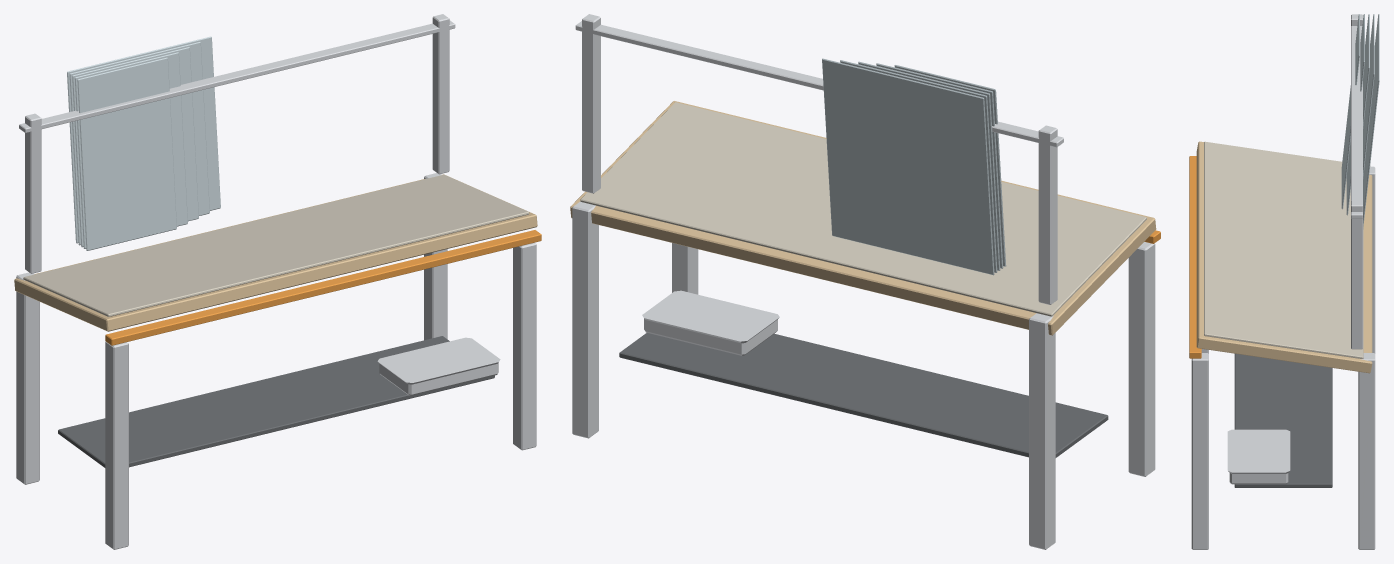
File: glass-and-glazing-cutting-bench.glb
3 views of the same model, side by side, from view 1: azimuth 30°, elevation 25°; view 2: azimuth 150°, elevation 25°; view 3: azimuth 270°, elevation 25° (orthographic). The views are drawn at different scales.
Parts seen in each view (by area): view 1: glass-and-glazing-cut-bench; view 2: glass-and-glazing-cut-bench; view 3: glass-and-glazing-cut-bench.
Boxes of the visible parts, x1=… form: glass-and-glazing-cut-bench: x1=14, y1=14, x2=541, y2=549; glass-and-glazing-cut-bench: x1=570, y1=14, x2=1160, y2=549; glass-and-glazing-cut-bench: x1=1189, y1=14, x2=1379, y2=549.
Bounding box in the file's own units: 1.9 × 1.66 × 0.7776.
